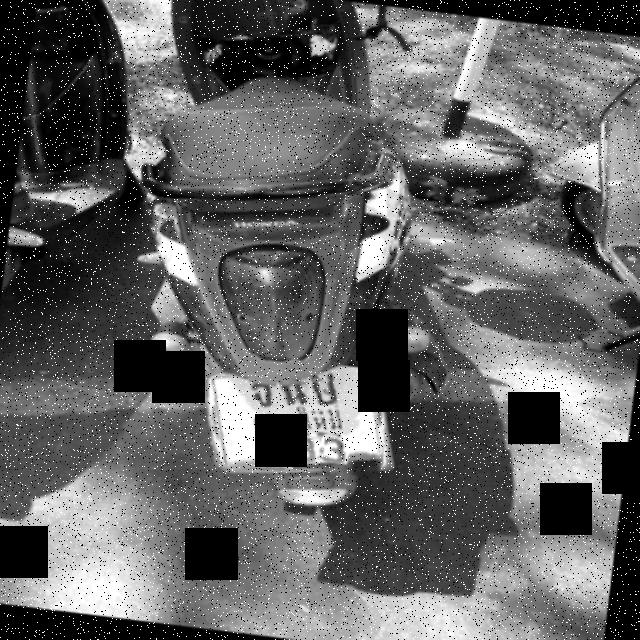letters: (257, 431, 296, 470), (245, 376, 276, 411), (310, 378, 343, 407), (290, 434, 320, 464), (322, 434, 351, 464), (278, 379, 308, 407)
license-plate: (206, 365, 384, 468)
province: (254, 406, 360, 436)
